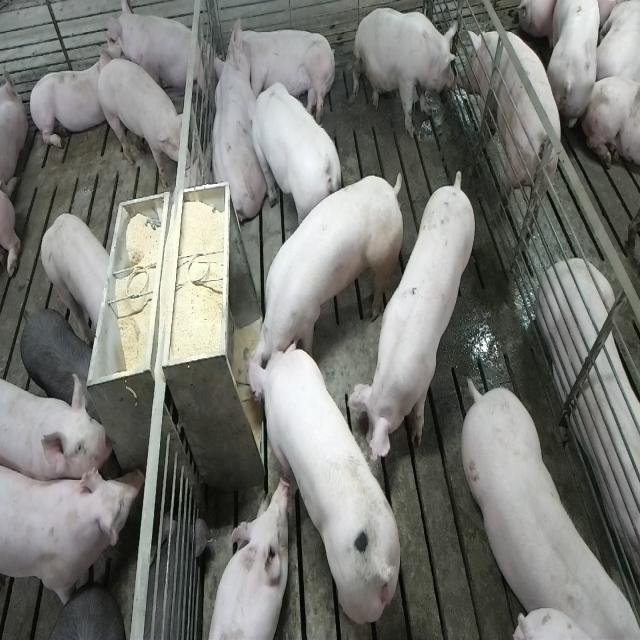Feeding: (245, 342, 402, 626), (248, 165, 408, 384)
Lateral_lying: (224, 15, 338, 126)
Sitting: (353, 7, 461, 140)
Standing: (457, 374, 635, 634), (353, 166, 479, 467), (2, 456, 140, 614), (458, 28, 560, 236), (250, 78, 342, 234), (2, 370, 111, 481), (97, 58, 189, 186), (40, 210, 112, 339), (18, 306, 94, 404)
Sternal_lying: (540, 260, 640, 590), (207, 482, 289, 640), (27, 49, 115, 152)
